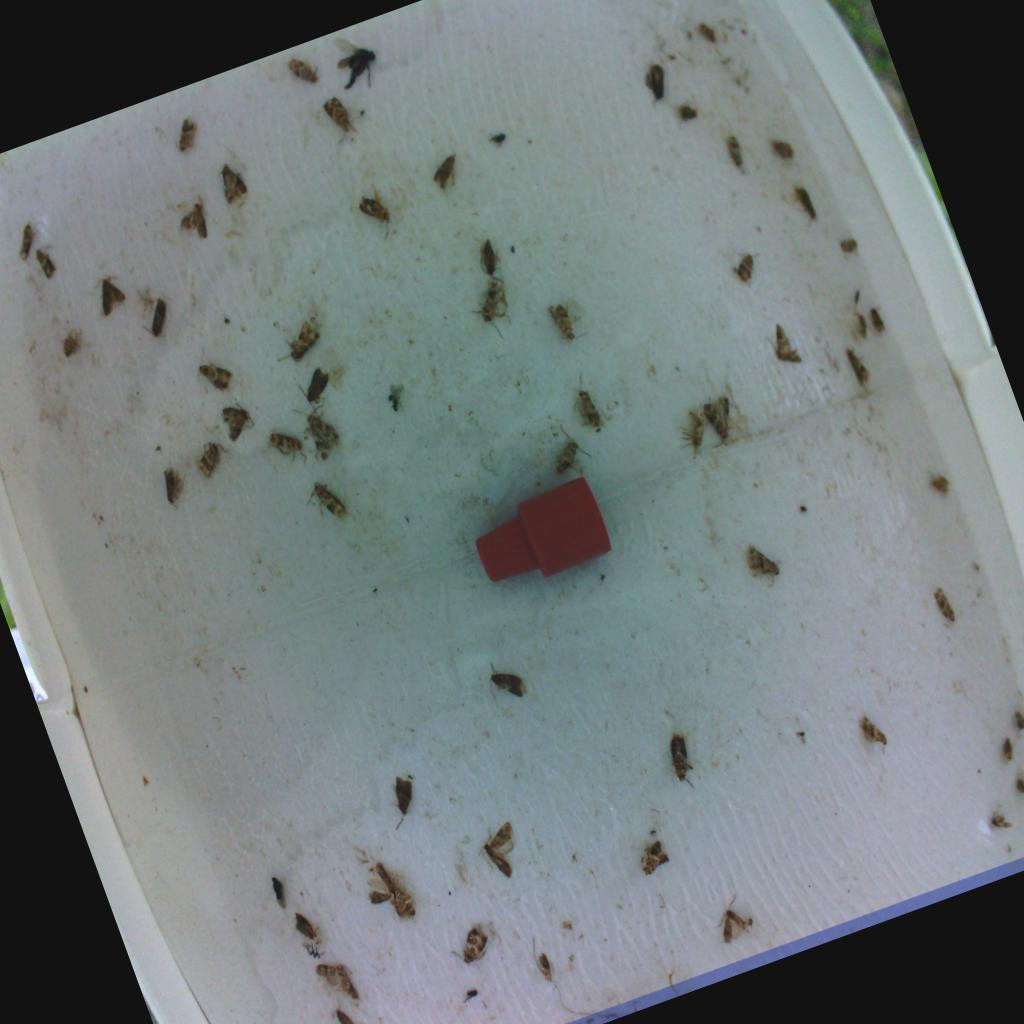grape_moth: (288, 396, 344, 467), (364, 856, 421, 922), (464, 272, 517, 342), (264, 314, 325, 368), (475, 818, 528, 879), (315, 86, 367, 147), (312, 952, 363, 1014), (541, 419, 592, 478), (297, 472, 349, 529), (660, 725, 704, 792), (696, 388, 744, 447), (563, 369, 603, 436), (447, 917, 496, 971), (190, 342, 236, 399), (351, 187, 395, 246), (169, 193, 214, 247), (713, 890, 754, 949), (671, 403, 712, 461), (740, 535, 783, 590), (265, 420, 310, 472), (760, 317, 803, 371), (189, 434, 236, 483), (542, 297, 584, 347), (215, 394, 257, 444), (627, 834, 673, 879), (212, 158, 253, 208), (153, 465, 191, 512), (279, 48, 318, 90), (167, 111, 205, 154), (854, 710, 891, 754), (718, 126, 749, 176), (840, 341, 873, 387), (928, 581, 959, 627), (8, 221, 41, 262), (725, 249, 760, 287), (30, 241, 58, 280), (673, 95, 705, 125), (56, 329, 85, 360), (995, 733, 1020, 767), (984, 808, 1014, 834)
